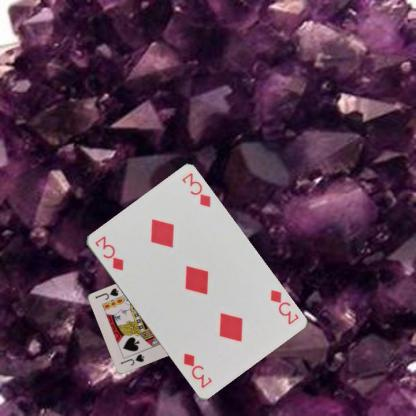3d: (267, 286, 300, 326), (92, 233, 125, 272)
Js: (118, 351, 145, 367)
